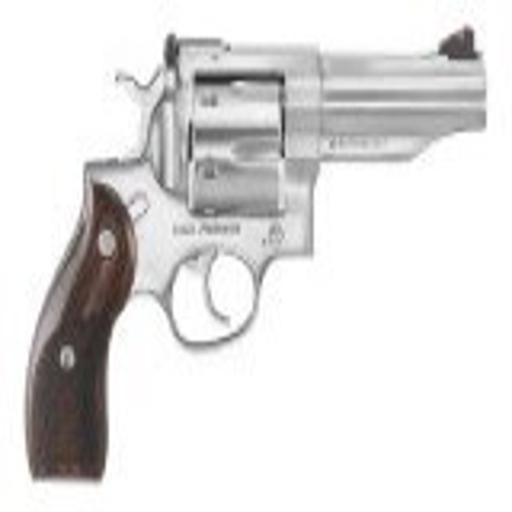Handgun: (18, 11, 495, 481)
